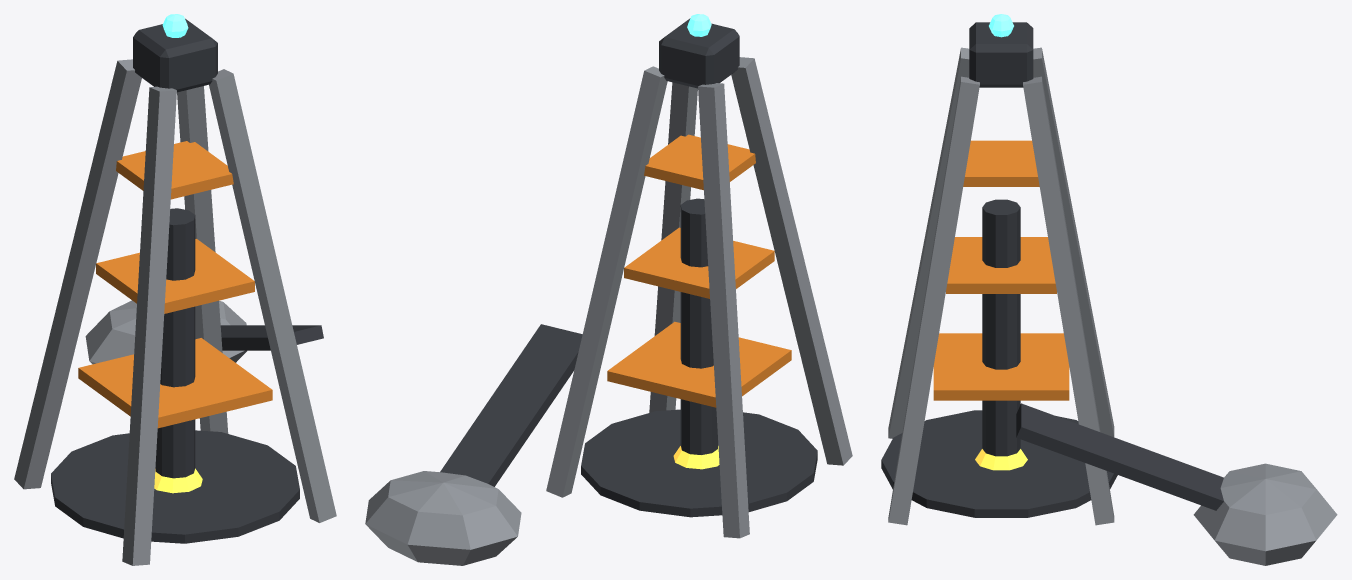
The model's file is mine.glb.
3 views of the same model, side by side, from view 1: azimuth 30°, elevation 25°; view 2: azimuth 150°, elevation 25°; view 3: azimuth 270°, elevation 25° (orthographic). The views are drawn at different scales.
Parts seen in each view (by area): view 1: mine; view 2: mine; view 3: mine.
Part boxes in pixels (x1=…): mine: x1=14, y1=14, x2=336, y2=565; mine: x1=365, y1=14, x2=852, y2=565; mine: x1=881, y1=14, x2=1337, y2=565.
Size of the model in its own units: 2.17 by 3.28 by 2.85.
